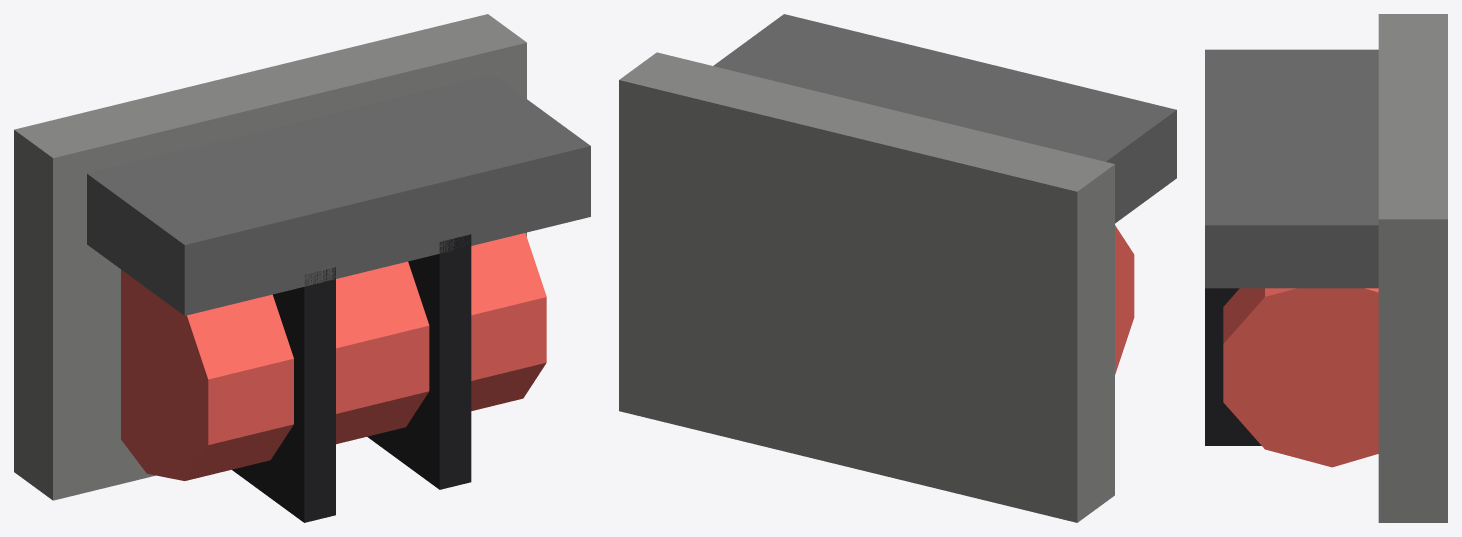
File: vge_e_gravship_light_red.obj
The picture shows the model from 3 angles, left to right: view 1: azimuth 30°, elevation 25°; view 2: azimuth 150°, elevation 25°; view 3: azimuth 270°, elevation 25°; orthographic projection. The views are drawn at different scales.
Parts seen in each view (by area): view 1: oc_emergency_light_red_1, oc_emergency_light_red_0, oc_emergency_light_red_2, oc_emergency_light_red_4, oc_emergency_light_red_3; view 2: oc_emergency_light_red_0, oc_emergency_light_red_1, oc_emergency_light_red_2; view 3: oc_emergency_light_red_1, oc_emergency_light_red_0, oc_emergency_light_red_2, oc_emergency_light_red_4.
Part boxes in pixels (x1,y1,x2,y2): oc_emergency_light_red_1: [87, 74, 590, 315]; oc_emergency_light_red_0: [14, 14, 526, 500]; oc_emergency_light_red_2: [121, 233, 546, 480]; oc_emergency_light_red_4: [367, 234, 471, 489]; oc_emergency_light_red_3: [232, 267, 335, 522]; oc_emergency_light_red_0: [619, 52, 1114, 522]; oc_emergency_light_red_1: [713, 14, 1176, 223]; oc_emergency_light_red_2: [1115, 225, 1134, 374]; oc_emergency_light_red_1: [1205, 49, 1378, 288]; oc_emergency_light_red_0: [1378, 14, 1447, 522]; oc_emergency_light_red_2: [1223, 288, 1378, 467]; oc_emergency_light_red_4: [1205, 288, 1261, 445].
Size of the model in its own units: 0.42 by 0.29 by 0.21.
